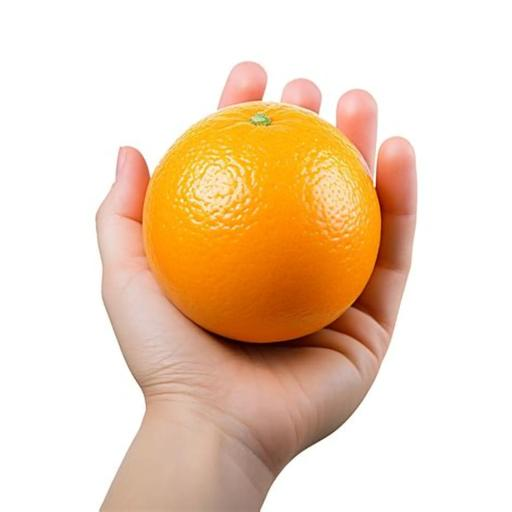orange: (144, 102, 380, 342)
